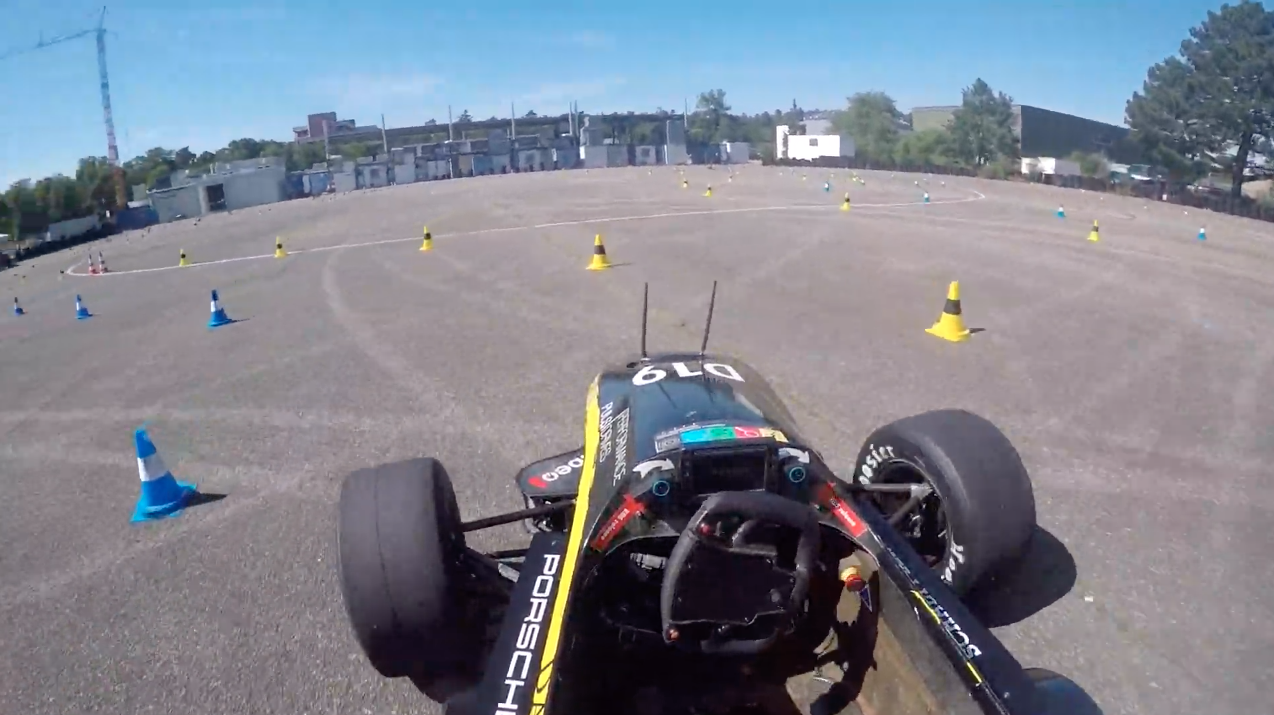lcone: (122, 428, 201, 525), (200, 283, 236, 329)
rcone: (920, 274, 978, 345), (585, 230, 617, 272), (417, 221, 438, 252)
